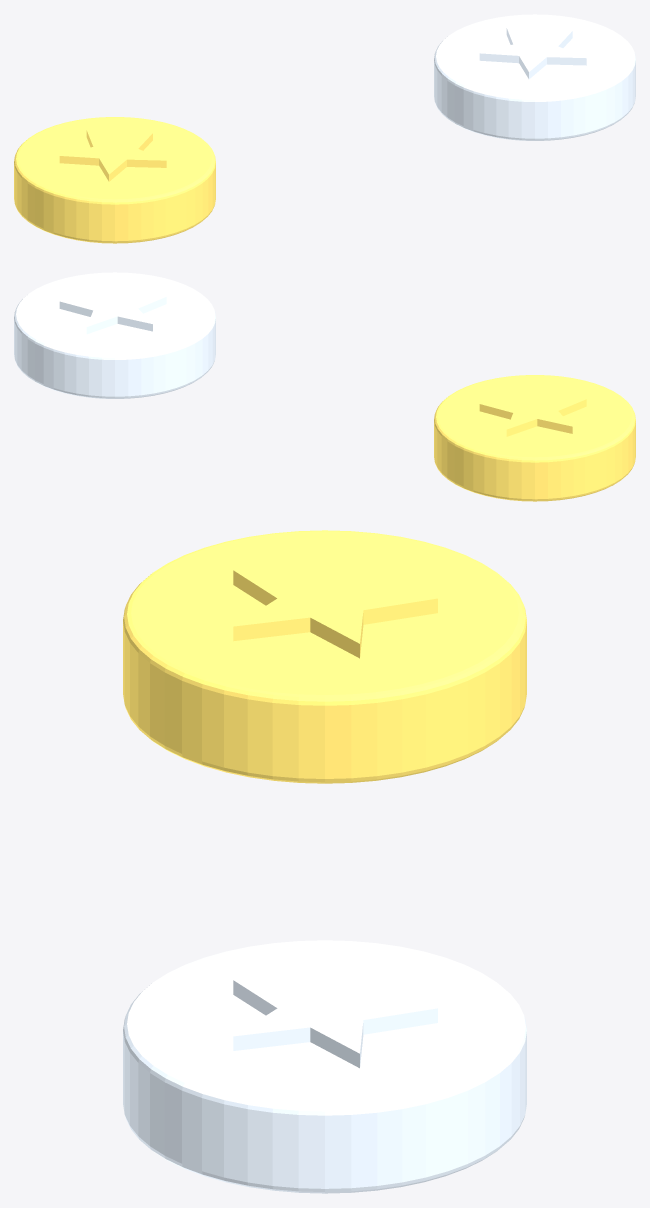
The model's file is Coin_Chunky.fbx.
3 renders of one model, top to bottom at view 1: azimuth 30°, elevation 25°; view 2: azimuth 150°, elevation 25°; view 3: azimuth 270°, elevation 25°, orthographic. The views are drawn at different scales.
Visible parts, largest first — view 1: Coin_Gold, Coin_Silver; view 2: Coin_Gold, Coin_Silver; view 3: Coin_Gold, Coin_Silver.
Part boxes in pixels (box(x1,y1,x2,y2)): Coin_Gold: box(14, 117, 215, 243); Coin_Silver: box(434, 14, 635, 140); Coin_Gold: box(434, 375, 635, 501); Coin_Silver: box(14, 272, 215, 398); Coin_Gold: box(123, 530, 526, 783); Coin_Silver: box(123, 940, 526, 1193).
Size of the model in its own units: 3.4 by 0.32 by 1.
